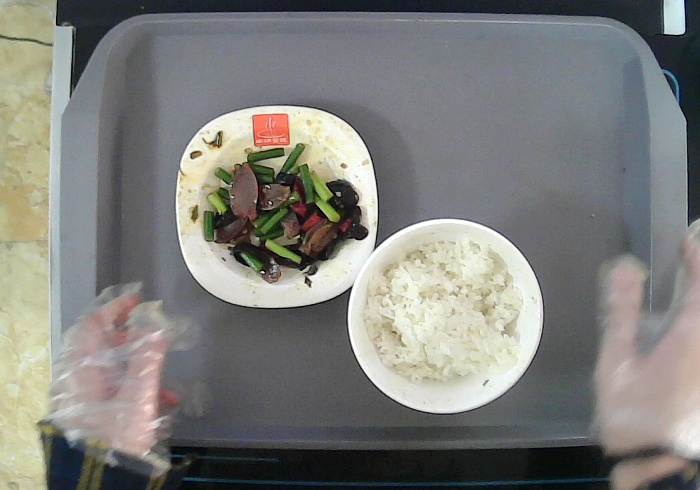SHKJ-Bai_Se_Si_Fang_Cai_Die: (162, 92, 387, 315)
SHKJ-Fan_Wan: (340, 211, 554, 424)
